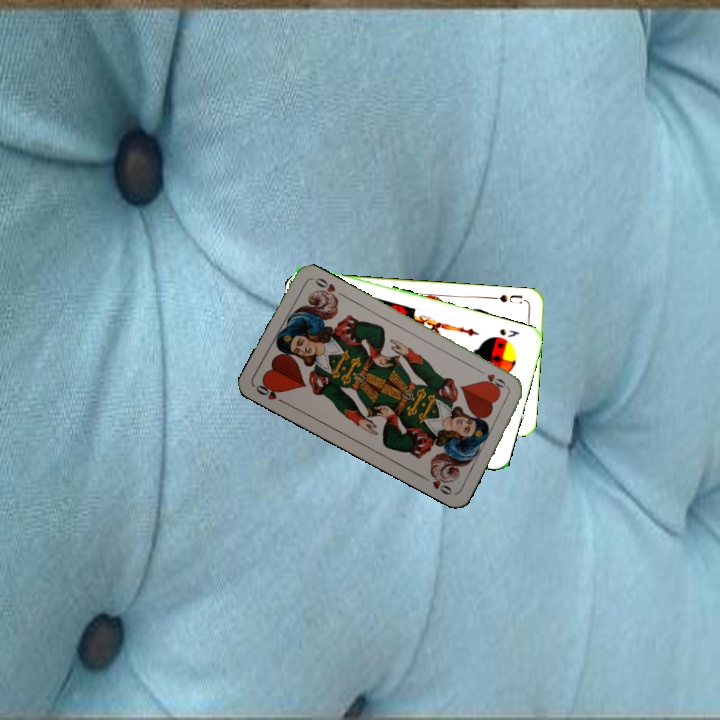HO: (252, 378, 289, 406), (474, 365, 511, 391)
SK: (495, 325, 522, 340)
SU: (488, 290, 529, 306)
